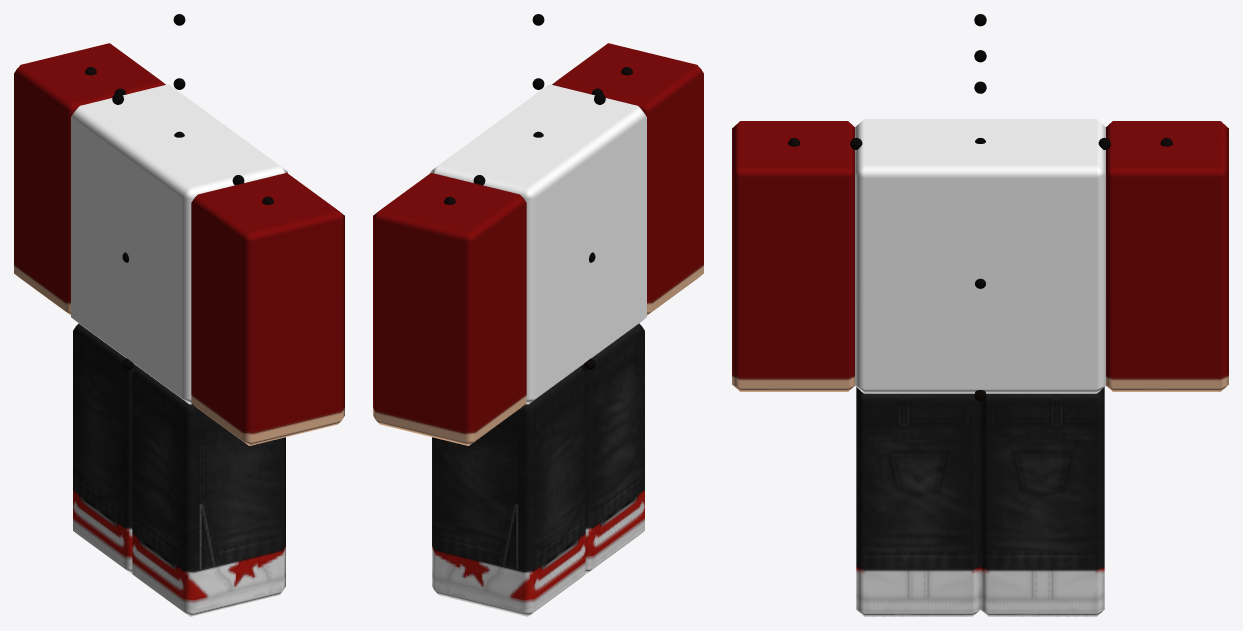
The model's file is avatar.gltf.
The picture shows the model from 3 angles, left to right: view 1: azimuth 30°, elevation 25°; view 2: azimuth 150°, elevation 25°; view 3: azimuth 270°, elevation 25°; orthographic projection. The views are drawn at different scales.
Parts seen in each view (by area): view 1: Left Arm, roblox, Left Leg, Right Arm, Right Leg; view 2: Right Arm, roblox, Right Leg, Left Arm, Left Leg; view 3: roblox, Right Arm, Left Arm, Right Leg, Left Leg.
Boxes of the visible parts, left/top/right/bottom form: Left Arm: left=191, top=173, right=344, bottom=445; roblox: left=71, top=84, right=287, bottom=404; Left Leg: left=132, top=366, right=285, bottom=616; Right Arm: left=14, top=43, right=165, bottom=315; Right Leg: left=73, top=323, right=137, bottom=573; Right Arm: left=373, top=173, right=526, bottom=445; roblox: left=430, top=84, right=646, bottom=404; Right Leg: left=432, top=366, right=585, bottom=616; Left Arm: left=552, top=43, right=703, bottom=315; Left Leg: left=580, top=323, right=644, bottom=573; roblox: left=855, top=119, right=1105, bottom=393; Right Arm: left=1106, top=121, right=1228, bottom=391; Left Arm: left=732, top=121, right=854, bottom=391; Right Leg: left=980, top=387, right=1104, bottom=616; Left Leg: left=856, top=387, right=980, bottom=616.
Size of the model in its own units: 1.2 by 5.2 by 4.
21 materials, 1 textured.
